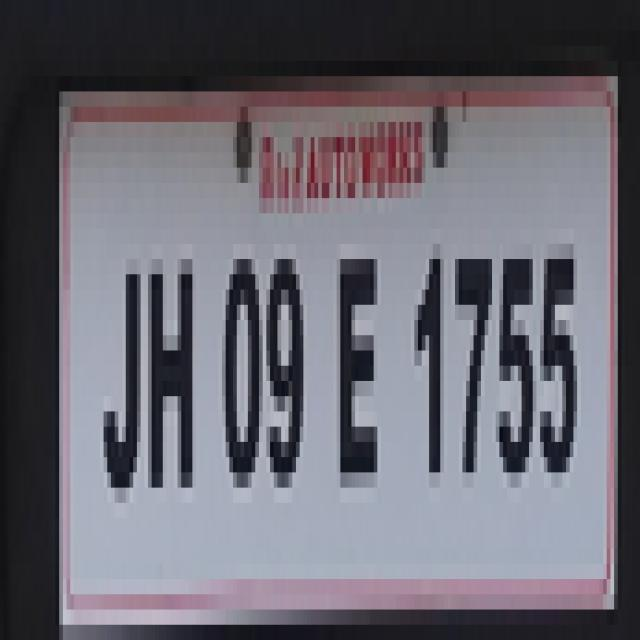0: (218, 227, 264, 498)
1: (408, 229, 448, 506)
5: (497, 224, 539, 502), (541, 234, 581, 483)
7: (451, 237, 496, 489)
9: (264, 245, 309, 508)
E: (331, 224, 382, 506)
H: (148, 240, 198, 518)
J: (95, 240, 150, 510)
